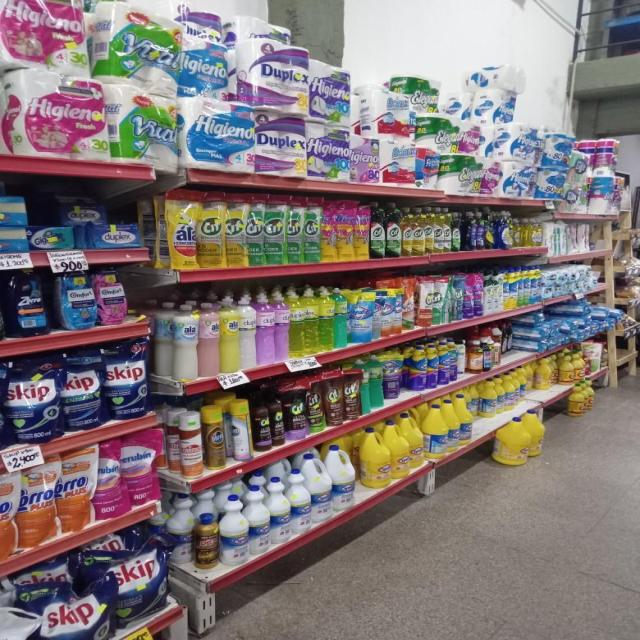ala_crem_amarillo: (220, 297, 239, 374)
ala_crem_blanco: (174, 301, 198, 382), (240, 295, 256, 370)
ala_crem_rosado: (199, 301, 219, 378)
ala_sachet_amarillo: (168, 189, 197, 269)
cif_conc_bot_amarilla: (402, 206, 412, 256), (413, 207, 423, 256), (424, 207, 434, 255), (442, 208, 452, 254), (433, 208, 442, 254)
cif_conc_botella_verde: (370, 202, 385, 258), (386, 202, 401, 258), (452, 210, 462, 252)
cif_conc_sachet_amarillo: (198, 192, 224, 268), (225, 193, 245, 267)
cif_conc_sachet_verde: (265, 195, 285, 265), (246, 194, 264, 266), (286, 196, 302, 264), (304, 196, 320, 263), (321, 198, 335, 262)
magistral_con_azul: (496, 210, 512, 249)
